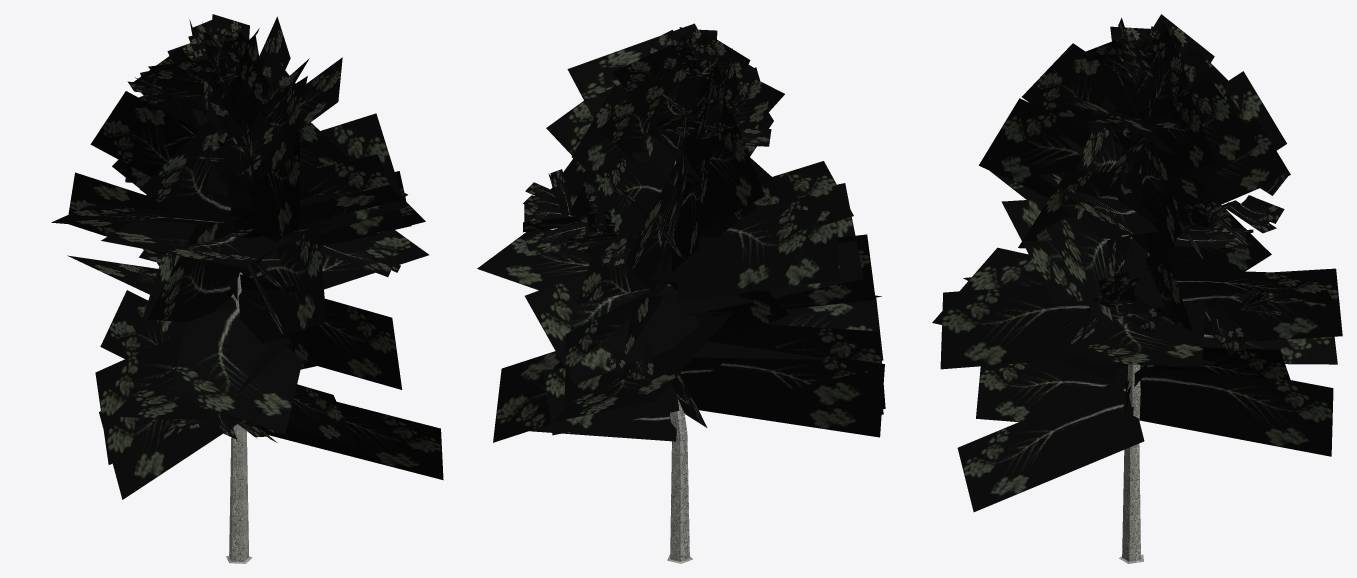
The model's file is hazeltall_hi.obj.
The picture shows the model from 3 angles, left to right: view 1: azimuth 30°, elevation 25°; view 2: azimuth 150°, elevation 25°; view 3: azimuth 270°, elevation 25°; orthographic projection.
Visible parts, largest first — view 1: Hazeltall_hi; view 2: Hazeltall_hi; view 3: Hazeltall_hi.
Part boxes in pixels (x1=…): Hazeltall_hi: x1=51, y1=14, x2=443, y2=563; Hazeltall_hi: x1=477, y1=23, x2=885, y2=563; Hazeltall_hi: x1=932, y1=14, x2=1342, y2=563.
Bounding box in the file's own units: 22.68 × 33.07 × 24.36.
2 materials, 2 textured.
